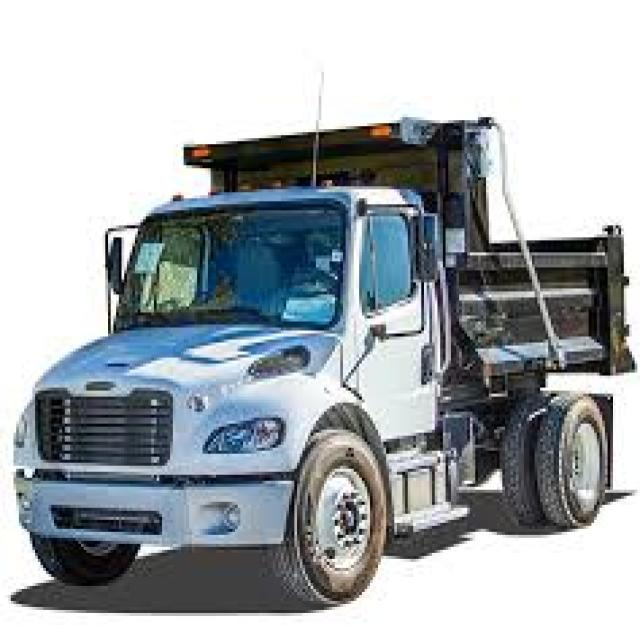dump_truck: (11, 85, 634, 611)
